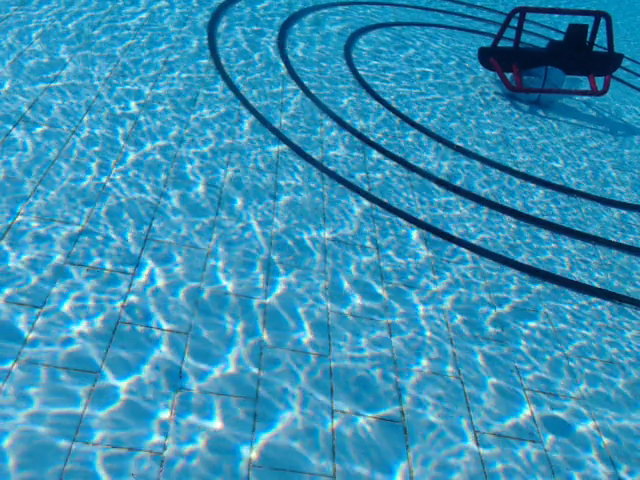submarine: (476, 5, 626, 98)
